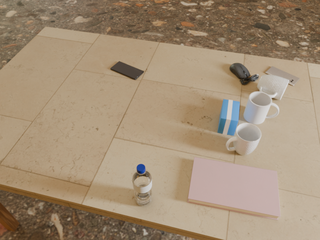book: (188, 157, 280, 220)
bottle: (132, 164, 152, 206)
box: (218, 99, 240, 135)
cup: (244, 91, 279, 124), (226, 123, 261, 155), (257, 74, 290, 100)
mouse: (230, 63, 259, 84)
phone: (266, 66, 299, 86), (111, 61, 144, 80)
